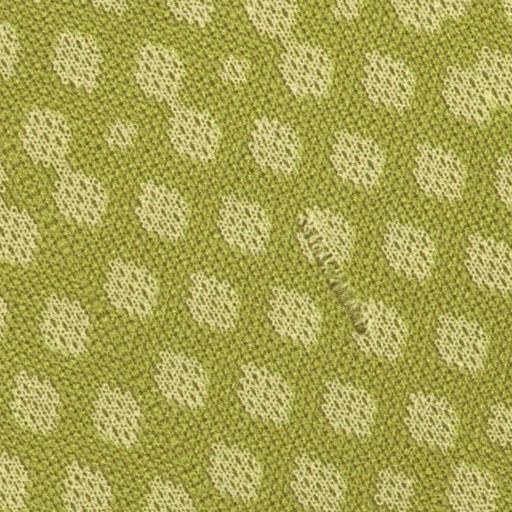slub: (290, 199, 394, 364)
